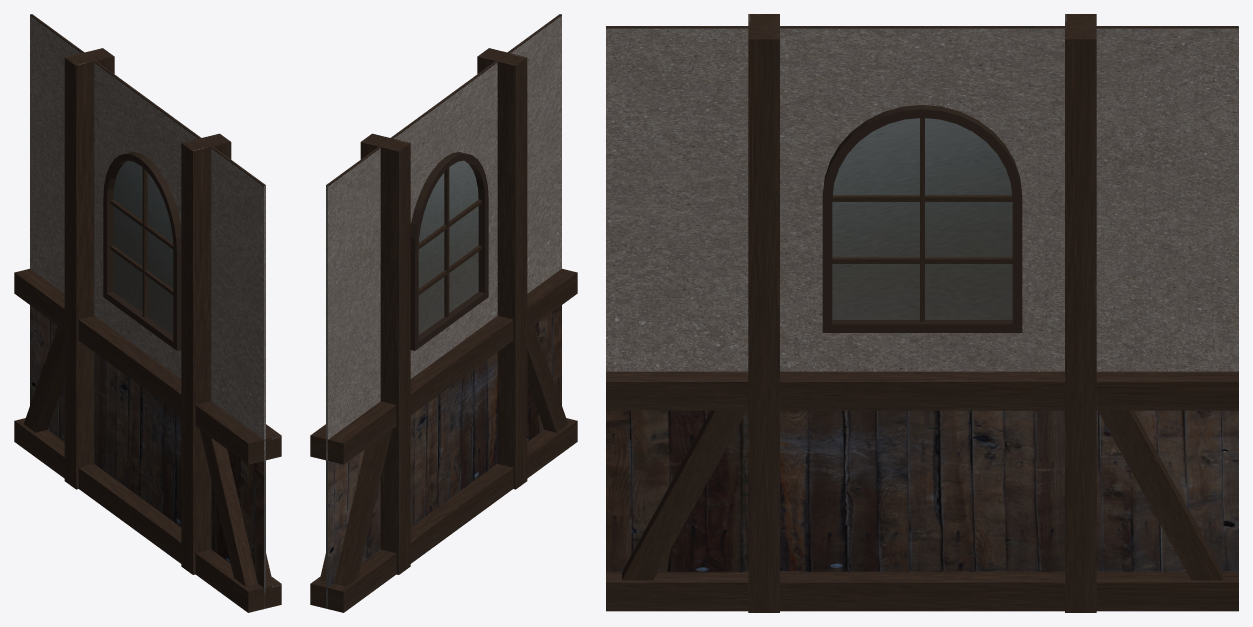
Rendered from OutdoorArchitecture_BasicWall01_Window01_NoEdges_BShortt.fbx.
3 views of the same model, side by side, from view 1: azimuth 30°, elevation 25°; view 2: azimuth 150°, elevation 25°; view 3: azimuth 270°, elevation 25° (orthographic). The views are drawn at different scales.
Parts seen in each view (by area): view 1: OutdoorArchitecture_BasicWall01_Window01_NoEdges_BShortt; view 2: OutdoorArchitecture_BasicWall01_Window01_NoEdges_BShortt; view 3: OutdoorArchitecture_BasicWall01_Window01_NoEdges_BShortt.
Boxes of the visible parts, x1=… form: OutdoorArchitecture_BasicWall01_Window01_NoEdges_BShortt: x1=14, y1=14, x2=281, y2=612; OutdoorArchitecture_BasicWall01_Window01_NoEdges_BShortt: x1=310, y1=14, x2=577, y2=612; OutdoorArchitecture_BasicWall01_Window01_NoEdges_BShortt: x1=606, y1=14, x2=1238, y2=612.
Size of the model in its own units: 28.5 by 300 by 300.
